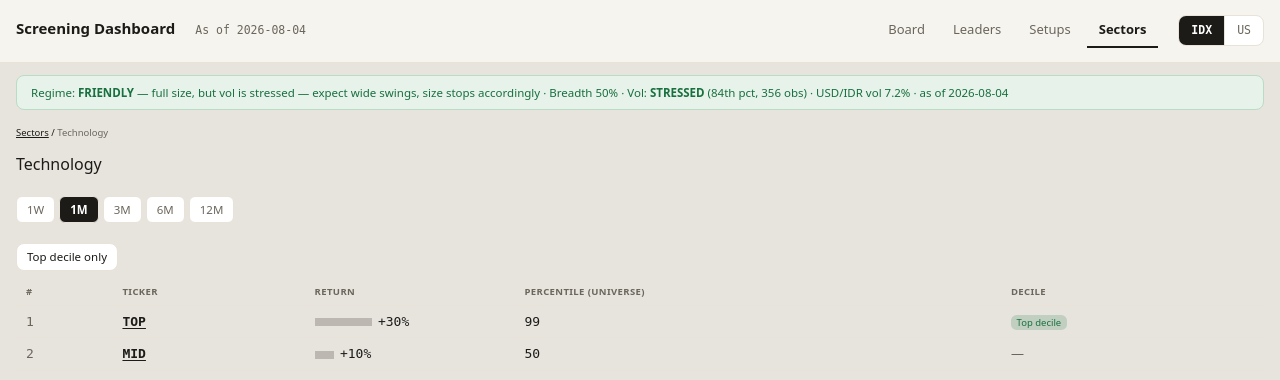
Sector detail — the member table (spec §5.5) › the top-decile toggle filters to top-decile names for the selected lookback
Check: the heading "Technology" is shown, box [16, 153, 102, 175]
Check: the button "MID" is shown, box [122, 344, 146, 364]
Click the button "Top decile only" at coordinates (67, 257), box [16, 243, 118, 271]
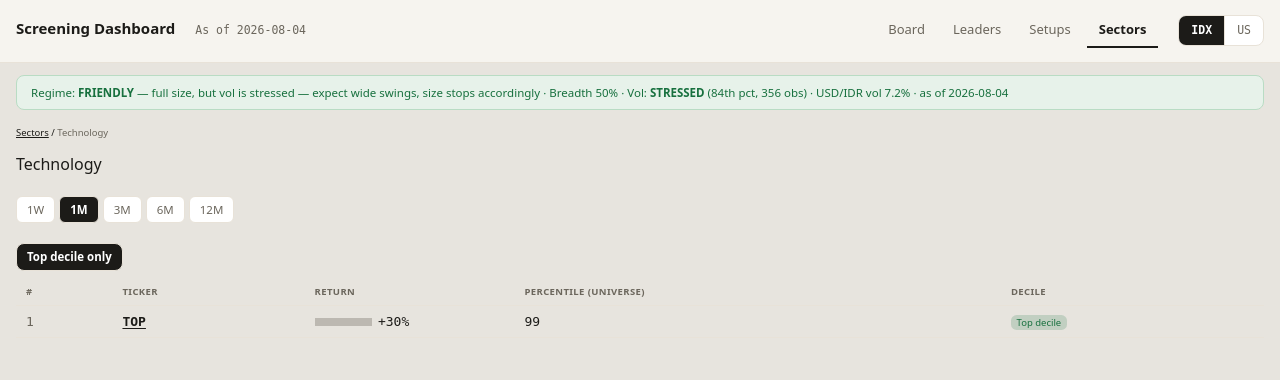
Check: the button "TOP" is shown, box [122, 312, 146, 331]
Check: the button "MID" is gone
